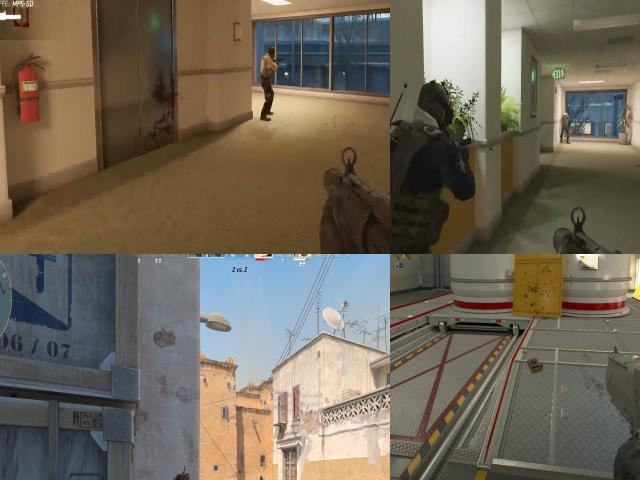Bomb: (523, 352, 545, 380)
CT: (390, 115, 470, 254), (560, 111, 570, 138), (258, 474, 265, 480)
CT-Head: (409, 79, 454, 150), (260, 475, 263, 480)
T: (259, 45, 279, 88)
T-Head: (266, 44, 278, 60)
